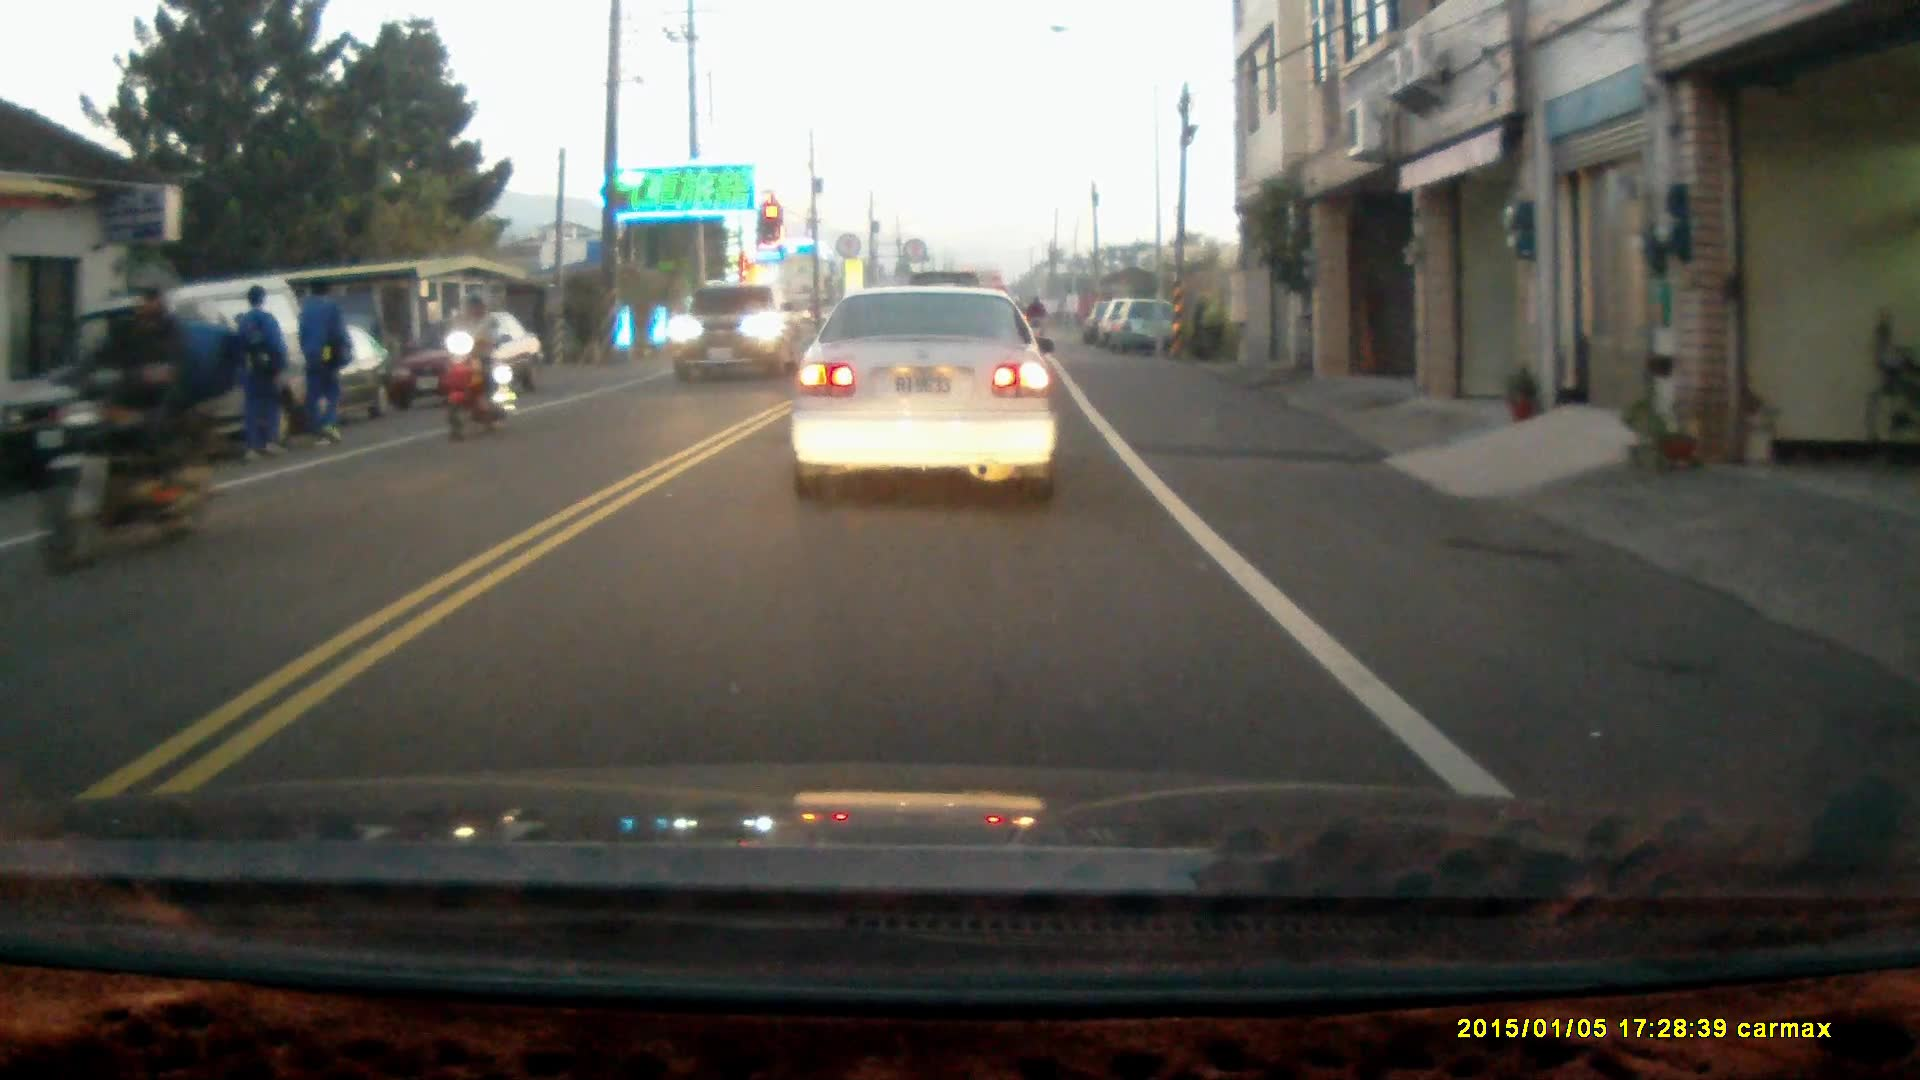pedestrian: (228, 286, 290, 467), (296, 275, 354, 451)
rider: (49, 267, 239, 573), (439, 288, 519, 438)
vehicle: (8, 275, 310, 482), (791, 280, 1063, 505), (195, 313, 401, 426), (392, 313, 552, 422), (666, 276, 796, 383), (1110, 300, 1185, 356)
